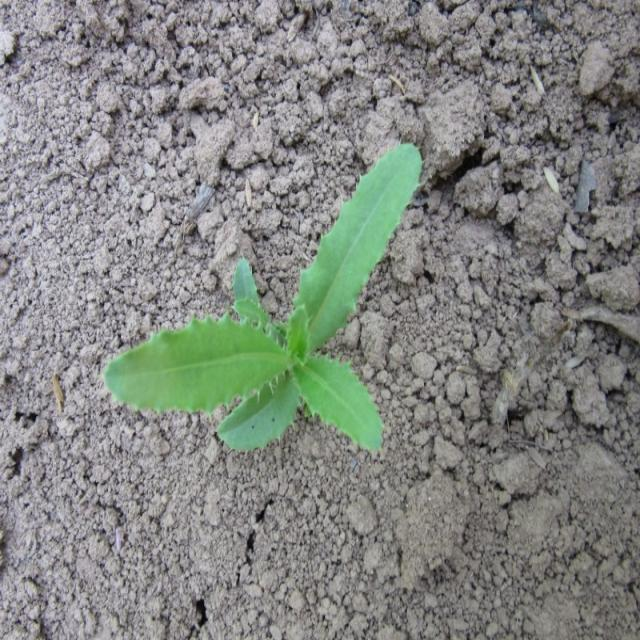field_thistle: (86, 136, 434, 486)
